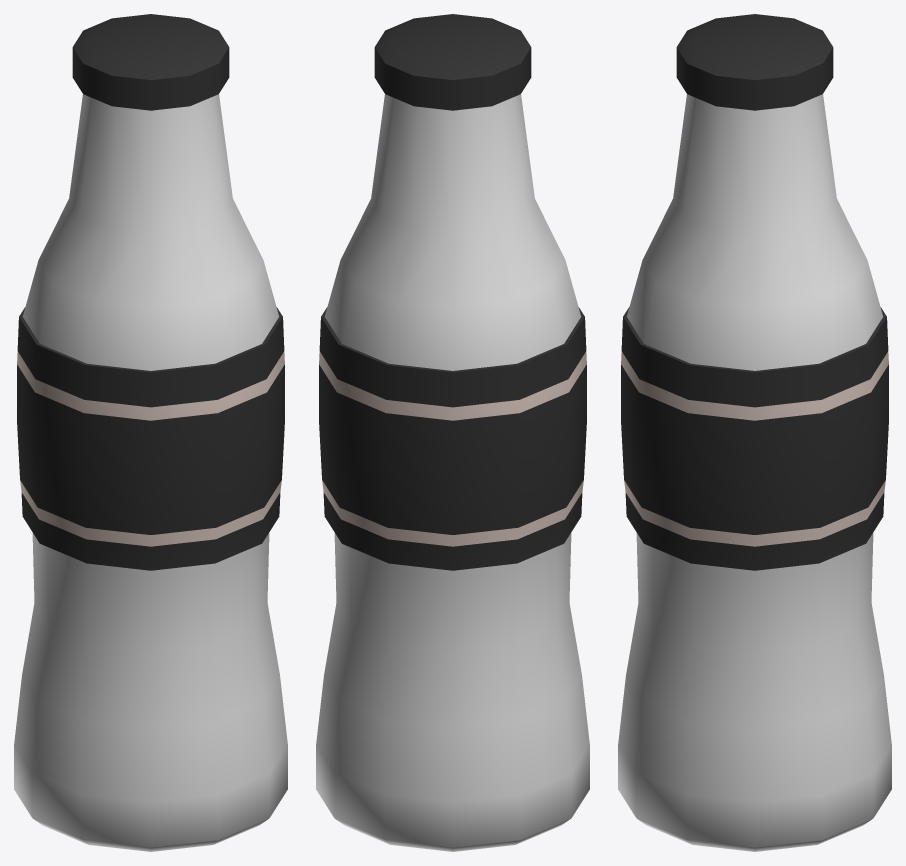
The model's file is SodaBottle_03.fbx.
The picture shows the model from 3 angles, left to right: view 1: azimuth 30°, elevation 25°; view 2: azimuth 150°, elevation 25°; view 3: azimuth 270°, elevation 25°; orthographic projection.
Visible parts, largest first — view 1: SodaBottle_03; view 2: SodaBottle_03; view 3: SodaBottle_03.
Part boxes in pixels (left/top/right/bottom): SodaBottle_03: left=14, top=14, right=287, bottom=851; SodaBottle_03: left=316, top=14, right=589, bottom=851; SodaBottle_03: left=618, top=14, right=891, bottom=851.
Bounding box in the file's own units: 0.1076 × 0.329 × 0.1076.
